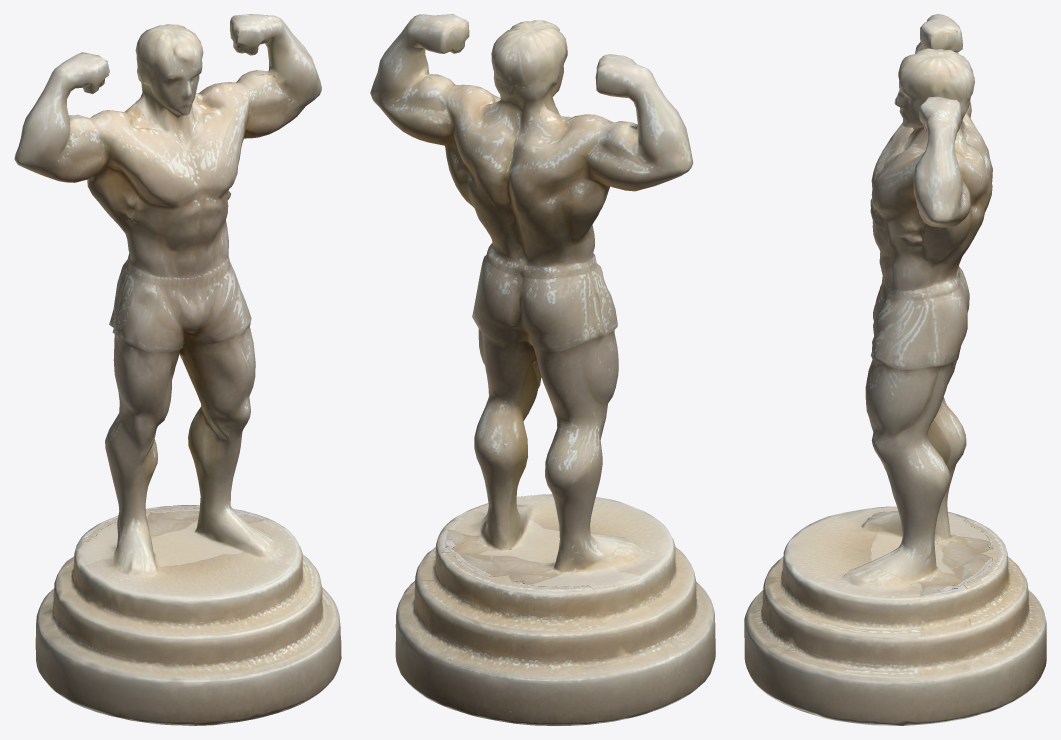
File: draw_statue1_white.glb
3 views of the same model, side by side, from view 1: azimuth 30°, elevation 25°; view 2: azimuth 150°, elevation 25°; view 3: azimuth 270°, elevation 25° (orthographic). The views are drawn at different scales.
Visible parts, largest first — view 1: texture_mapping; view 2: texture_mapping; view 3: texture_mapping.
Boxes of the visible parts, x1=… form: texture_mapping: x1=14, y1=14, x2=341, y2=725; texture_mapping: x1=370, y1=14, x2=715, y2=725; texture_mapping: x1=744, y1=14, x2=1046, y2=725.
Size of the model in its own units: 0.5146 by 1 by 0.4494.
Materials: 1 (1 with a texture image).
